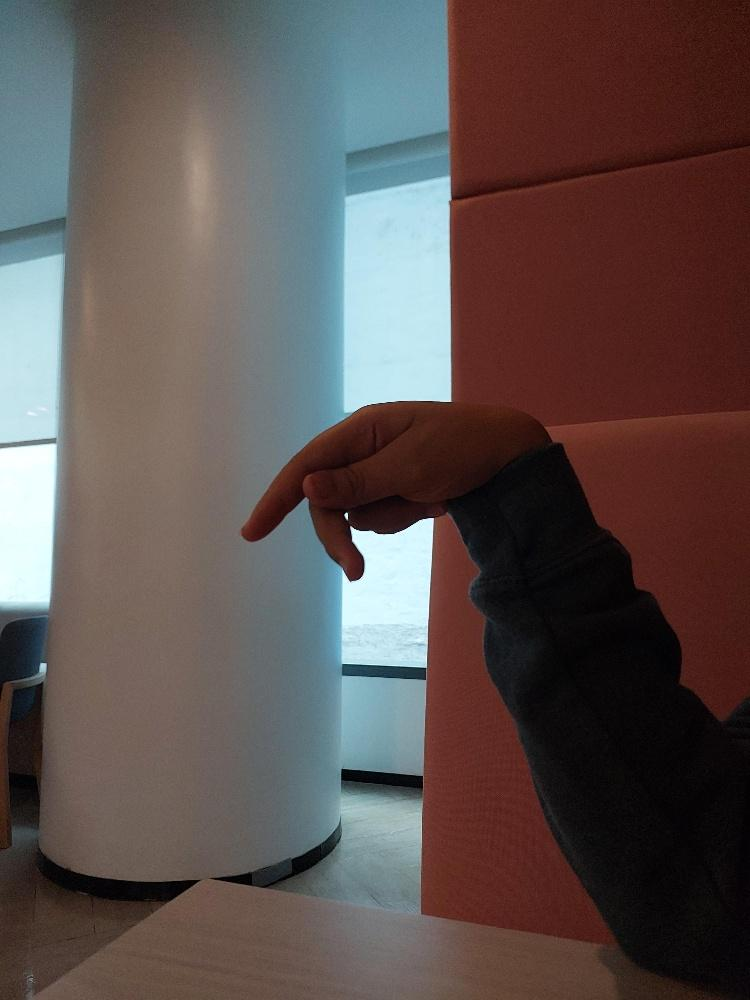p: (235, 385, 559, 587)
